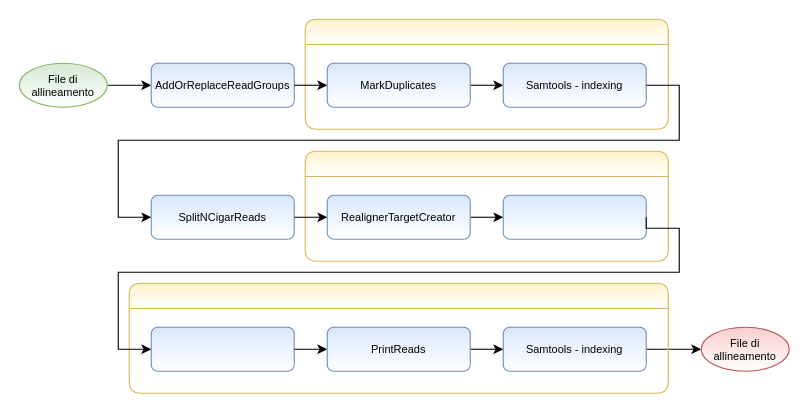
Image size: 809x413. Some labels were removed from this diagram. The box of each missing label's shape, as (x1, y1, x2, y2) in pixels:
BaseRecalibrator: (150, 326, 294, 371)
Deduplicazione: (304, 18, 668, 129)
IndelRealigner: (502, 194, 646, 239)
Riallineamento: (304, 150, 668, 261)
Ricalibrazione: (128, 282, 668, 393)
